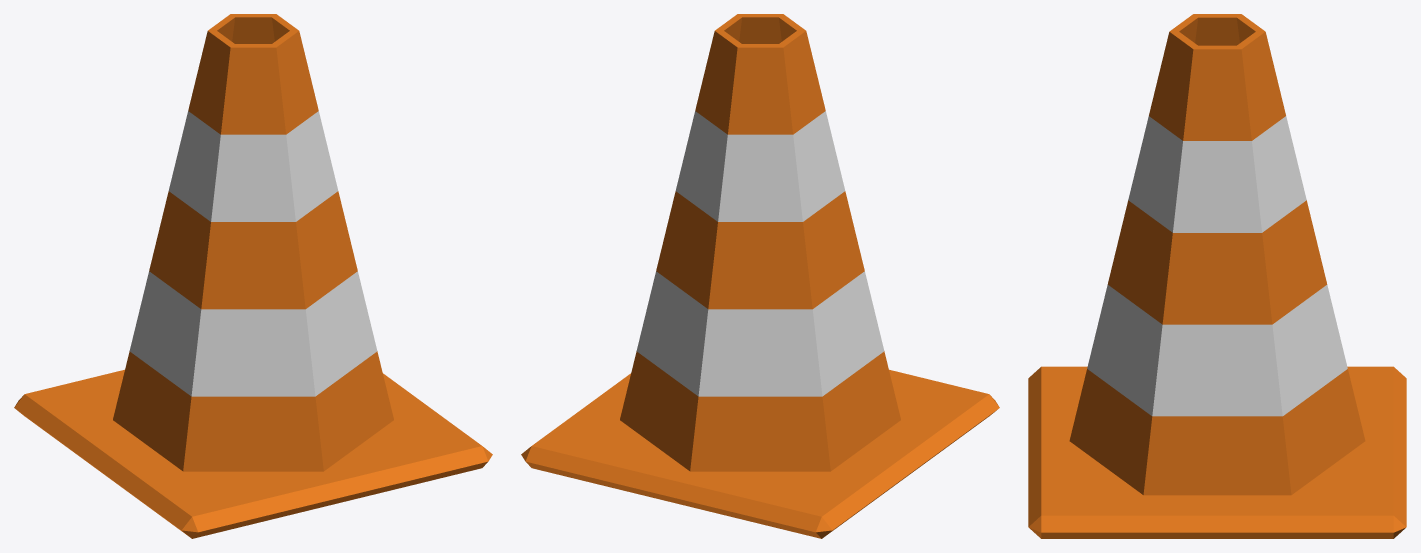
The model's file is TrafficCone.fbx.
3 renders of one model, left to right at view 1: azimuth 30°, elevation 25°; view 2: azimuth 150°, elevation 25°; view 3: azimuth 270°, elevation 25°, orthographic. The views are drawn at different scales.
Visible parts, largest first — view 1: Cone; view 2: Cone; view 3: Cone.
Part boxes in pixels (left/top/right/bottom): Cone: left=14, top=14, right=492, bottom=538; Cone: left=521, top=14, right=999, bottom=538; Cone: left=1028, top=14, right=1406, bottom=538.
Size of the model in its own units: 0.2843 by 0.359 by 0.2843.
